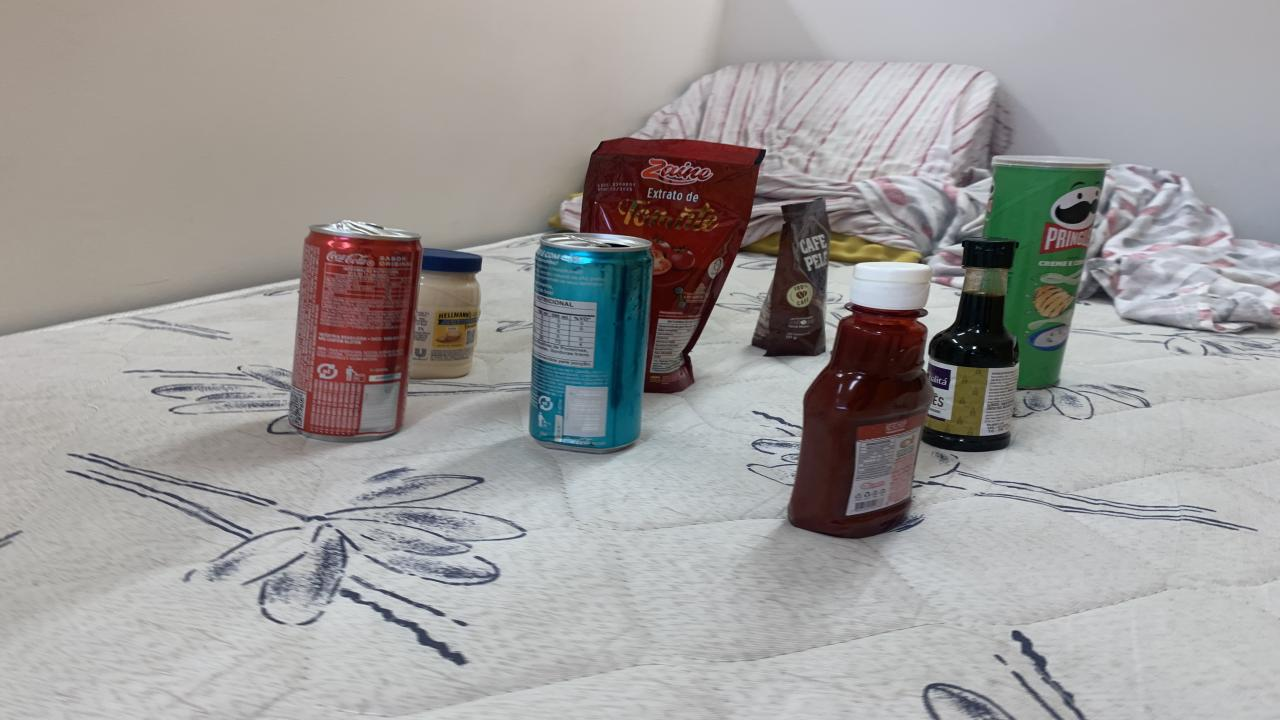Coffee-Pantry_Items: (752, 199, 830, 356)
Coke-Drinks: (290, 221, 422, 441), (290, 223, 420, 442)
English_Sauce-Pantry_Items: (922, 236, 1020, 452)
Ketchup-Pantry_Items: (788, 262, 932, 538)
Mayonnaise-Pantry_Items: (410, 249, 482, 379)
Pringles-Snacks: (982, 156, 1110, 388)
Tea-Drinks: (530, 232, 652, 452)
Tomato_Sauce-Pantry_Items: (578, 137, 765, 392)
